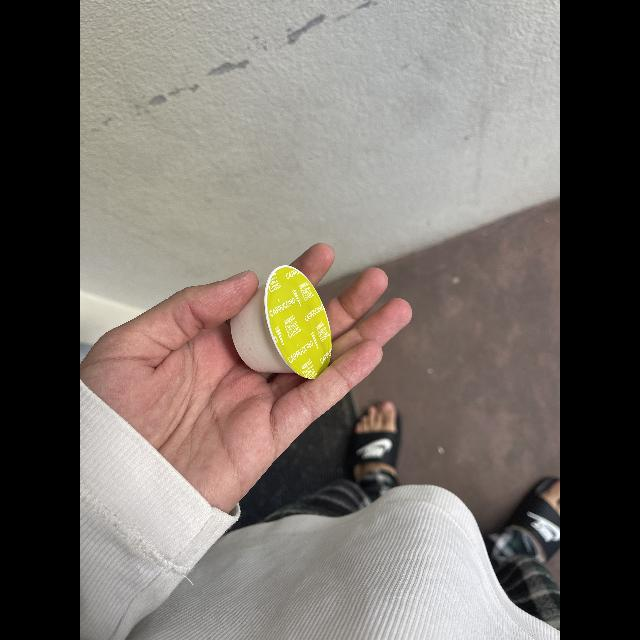intact_capsule: (218, 258, 338, 392)
